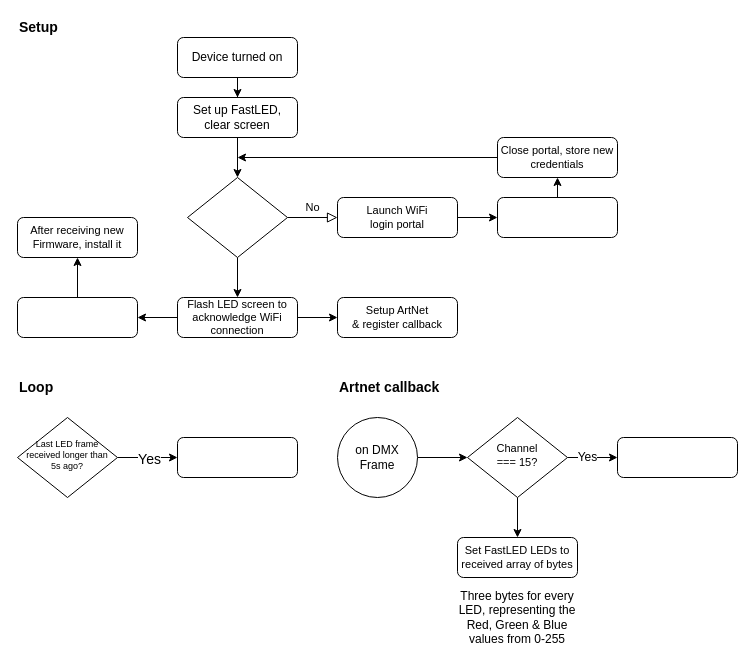
This 755x663 diagram has some shape labels left out. The shapes that lost their labels are listed below. From the top down, each one's box as (x1, y1, x2, y2) in pixels, then its label:
(186, 176, 288, 258): Working WiFi credentials stored?
(496, 196, 618, 238): User opens portal and supplies WiFI credentials
(16, 296, 138, 338): Setup ArduinoOTA
(176, 436, 298, 478): Clear LED screen
(616, 436, 738, 478): Set brightness to first byte
